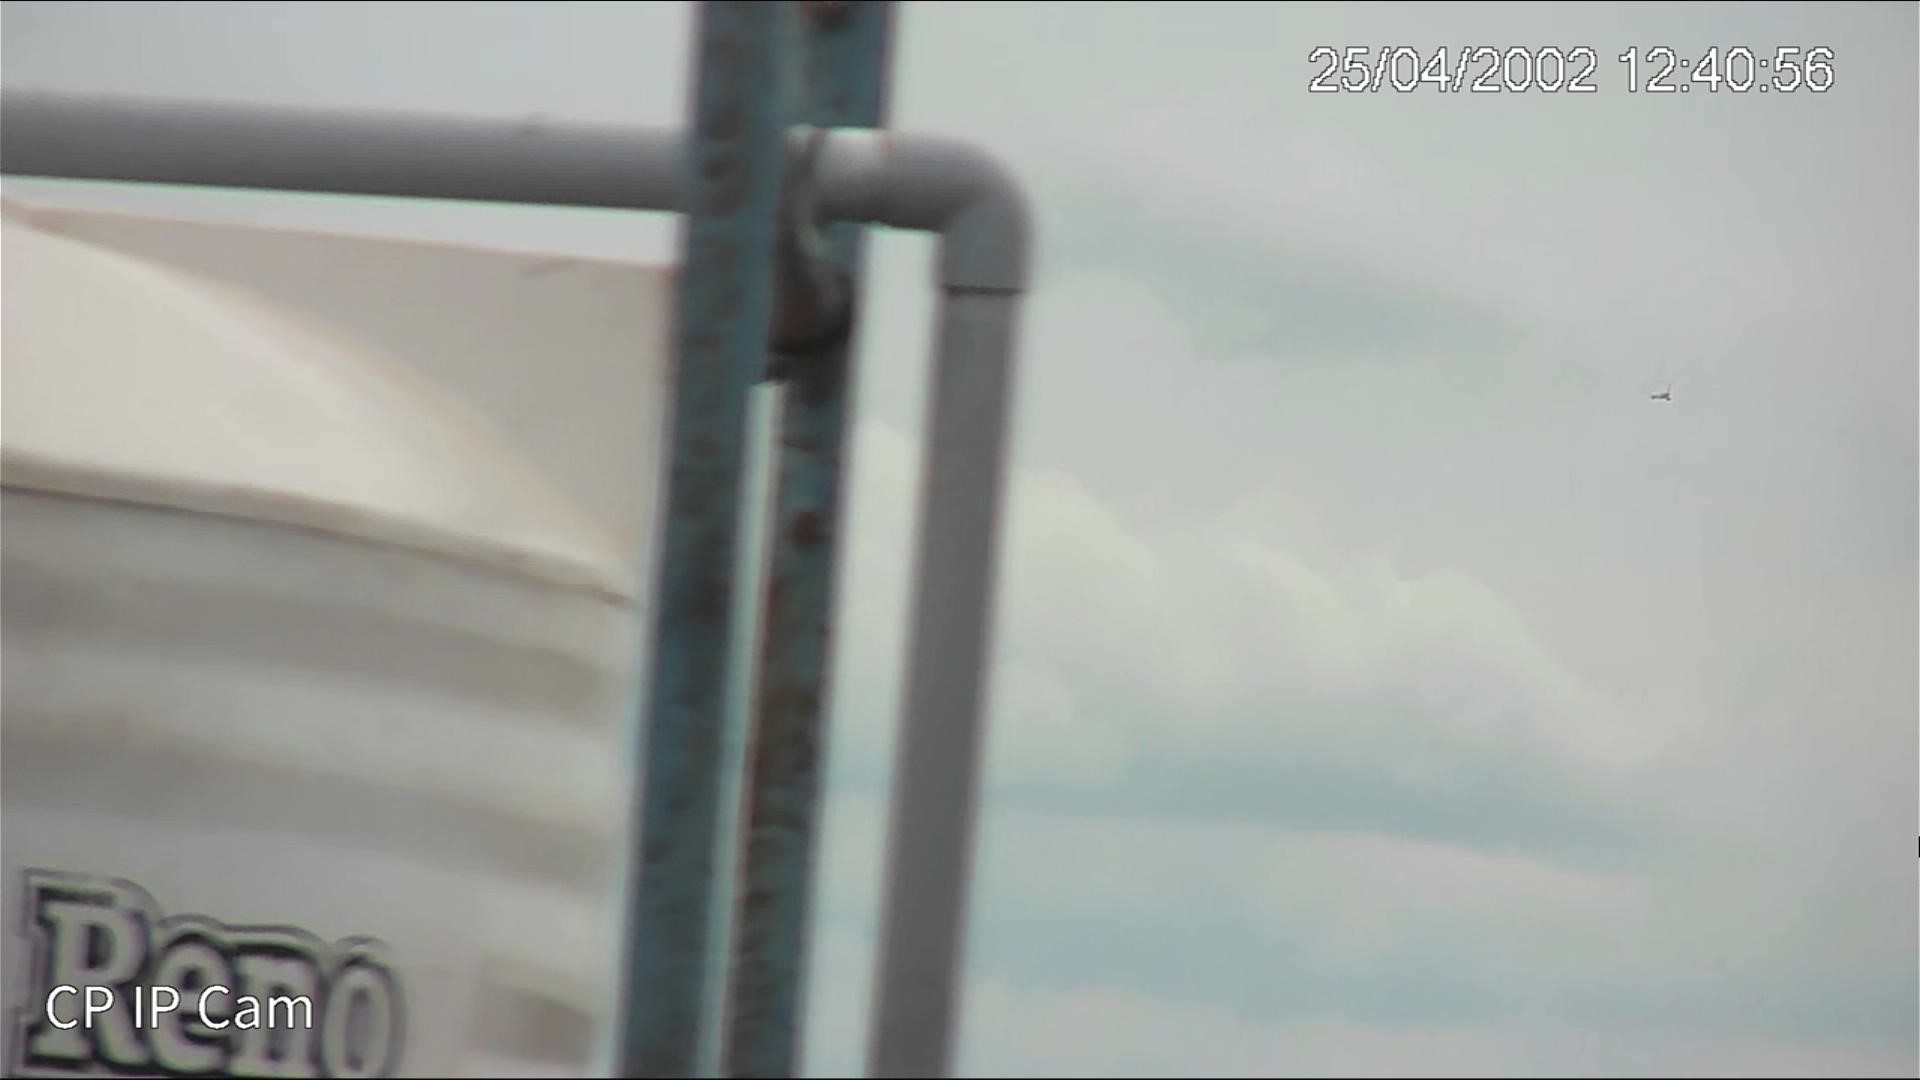SU_30: (1648, 389, 1672, 401)
